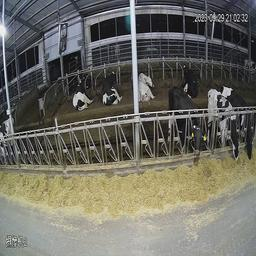cow: (165, 86, 205, 174), (207, 86, 241, 178), (229, 78, 252, 168), (69, 71, 96, 117), (101, 66, 125, 115), (138, 66, 155, 109), (183, 65, 198, 96)
